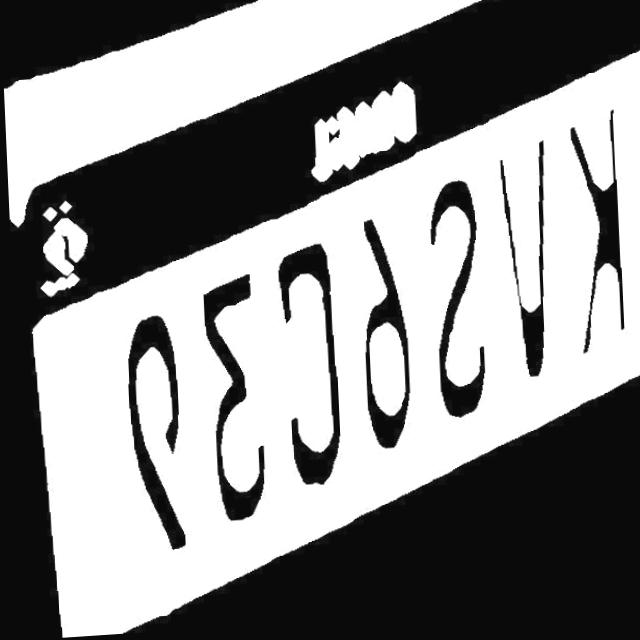3: (185, 246, 271, 534)
6: (338, 204, 409, 458)
9: (109, 292, 187, 552)
c: (254, 223, 342, 505)
k: (542, 103, 630, 378)
s: (401, 160, 485, 437)
v: (471, 135, 562, 406)
